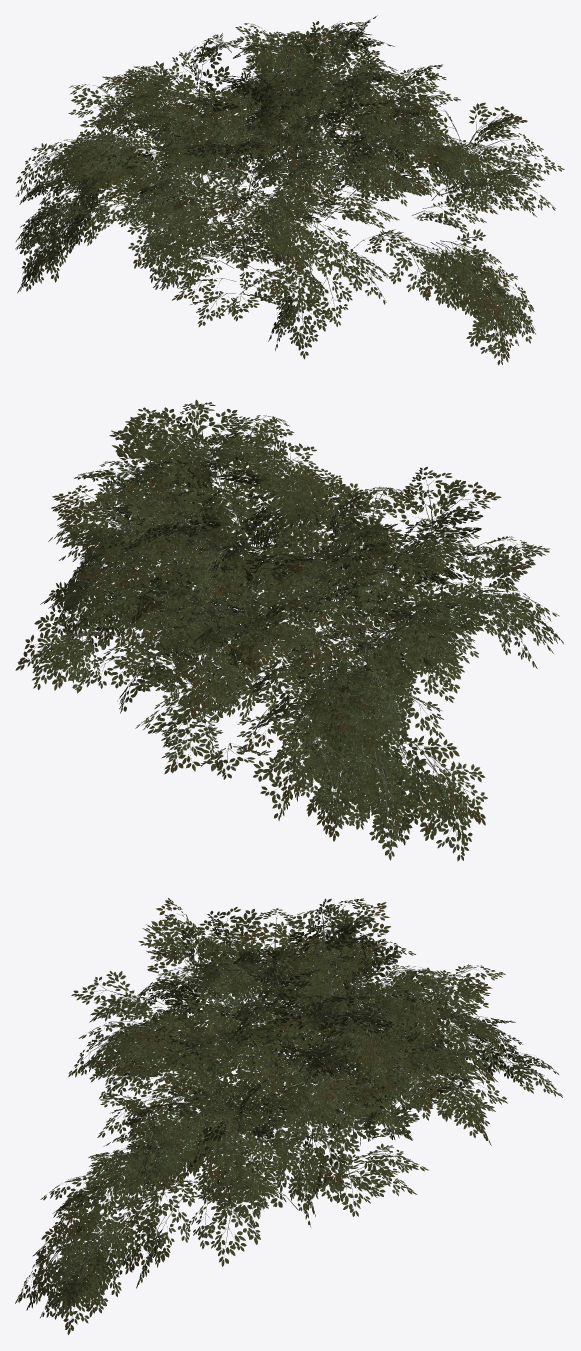
File: 3d-tree-leafs.dae
The picture shows the model from 3 angles, top to bottom: view 1: azimuth 30°, elevation 25°; view 2: azimuth 150°, elevation 25°; view 3: azimuth 270°, elevation 25°; orthographic projection. The views are drawn at different scales.
Parts seen in each view (by area): view 1: polySurface1; view 2: polySurface1; view 3: polySurface1.
Boxes of the visible parts, box(x1,y1,x2,y2) form: polySurface1: box(15, 15, 564, 365); polySurface1: box(15, 399, 563, 861); polySurface1: box(15, 898, 562, 1334).
Bounding box in the file's own units: 12.69 × 12.39 × 8.13.
Materials: 1 (1 with a texture image).
